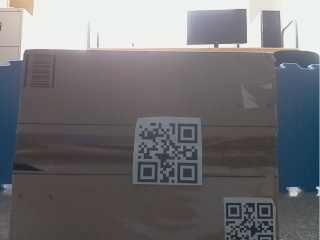caja: (8, 50, 275, 238)
